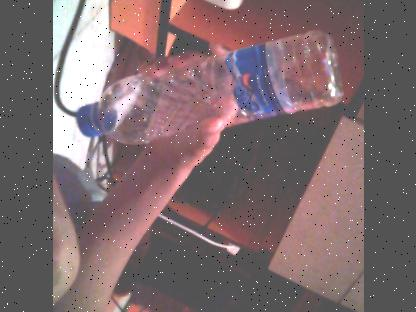Plastic Bottle: (75, 32, 342, 169)
